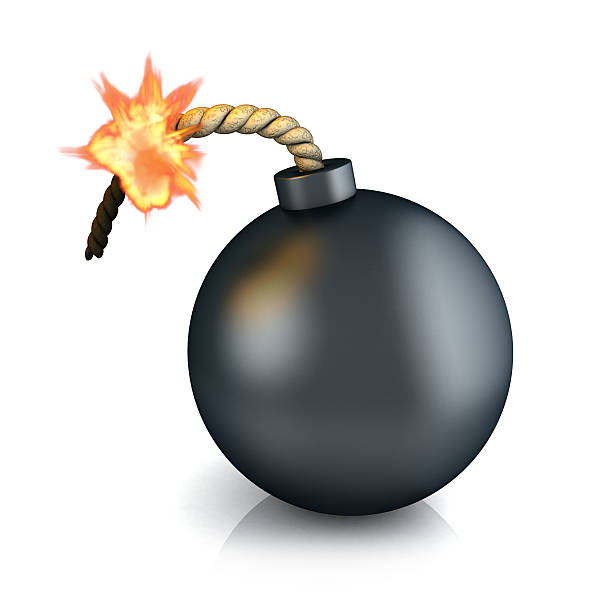e1: (181, 128, 531, 524)
